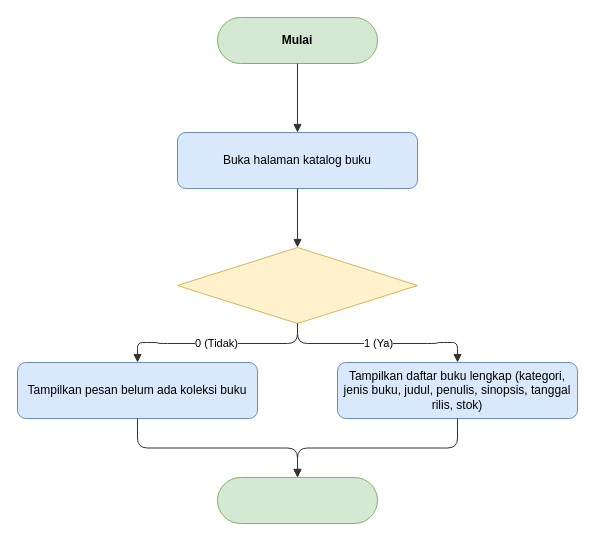
Image size: 595x541. Some labels were removed from this diagram. The box of each missing label's shape, as (x1, y1, x2, y2) in pixels:
Apakah koleksi buku tersedia di katalog?: (176, 246, 418, 324)
Selesai: (216, 476, 378, 524)
